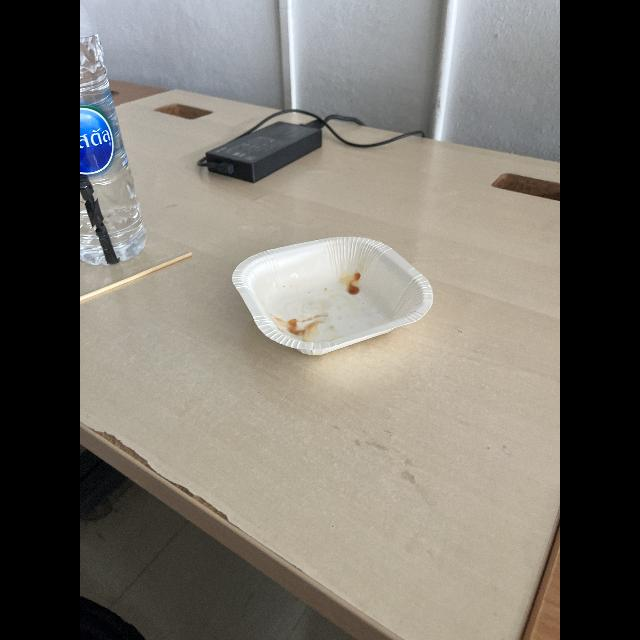cardboard_bowl: (228, 232, 436, 364)
stick: (80, 244, 198, 314)
